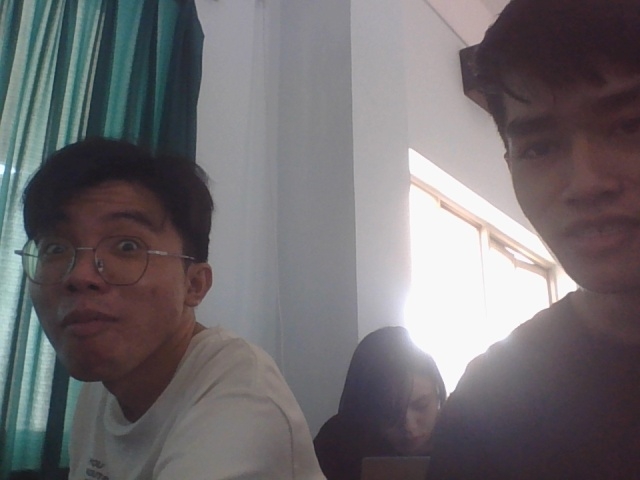real: (30, 134, 207, 385)
